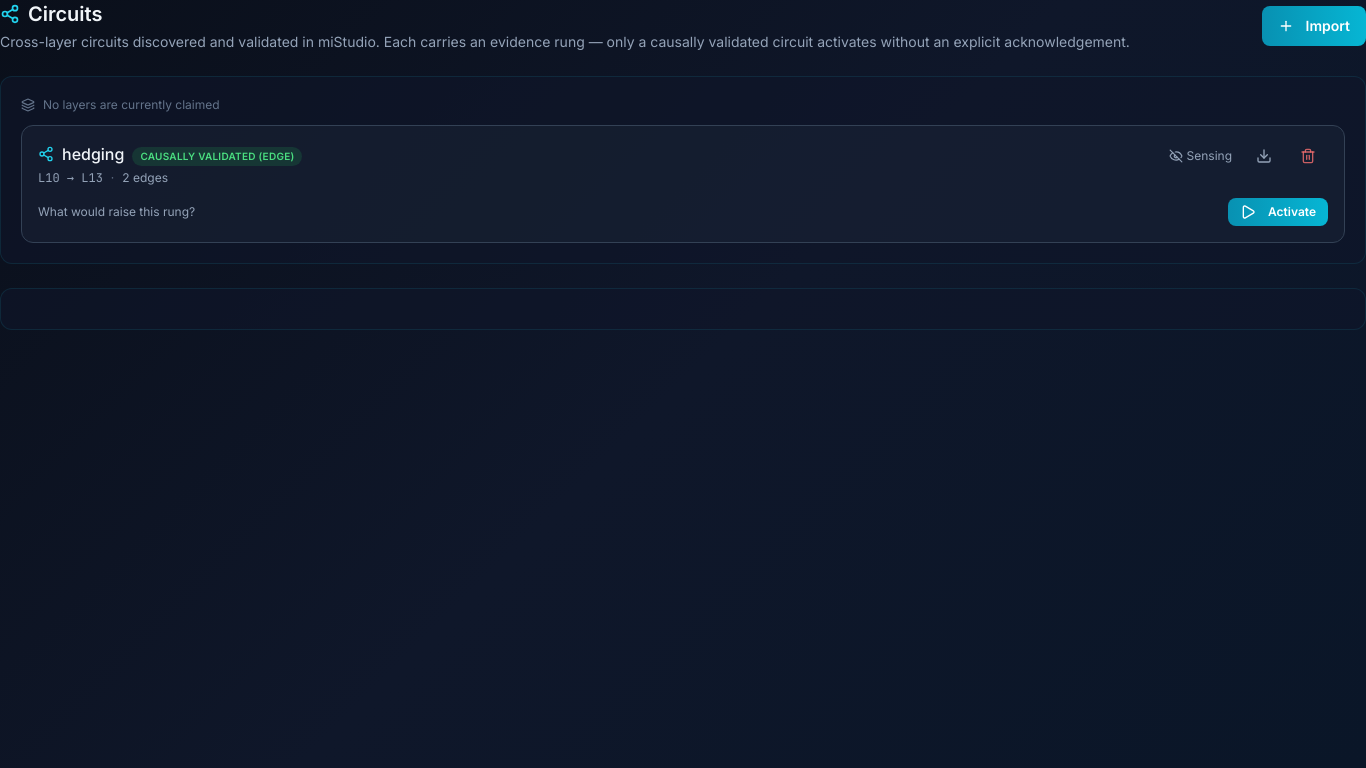
Test: CircuitsPage — layer contention › cancelling closes the dialog and activates nothing
Step 1. Click the button with test id "activate-button" → (1278, 212), box [1228,198,1328,226]
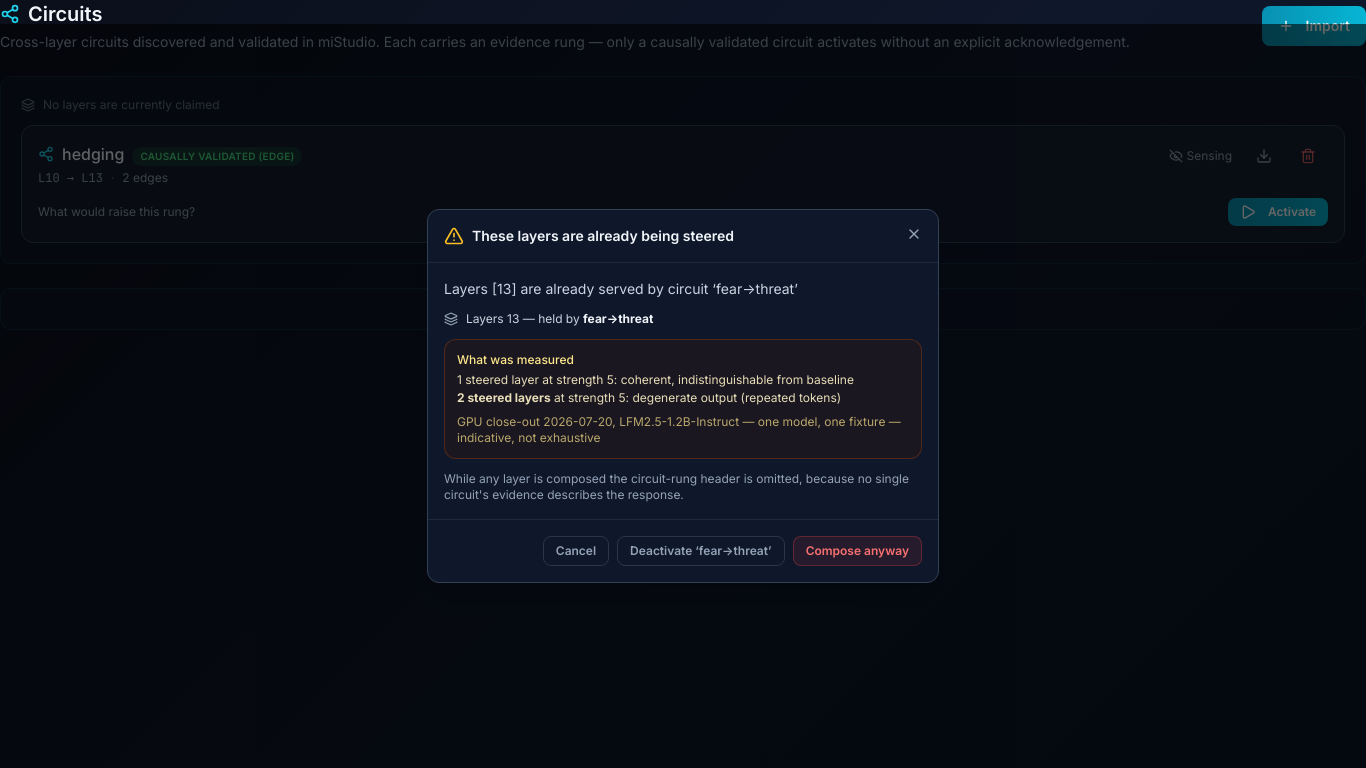
Step 2. Click the button with test id "contention-cancel-x" → (914, 234), box [906,226,922,242]
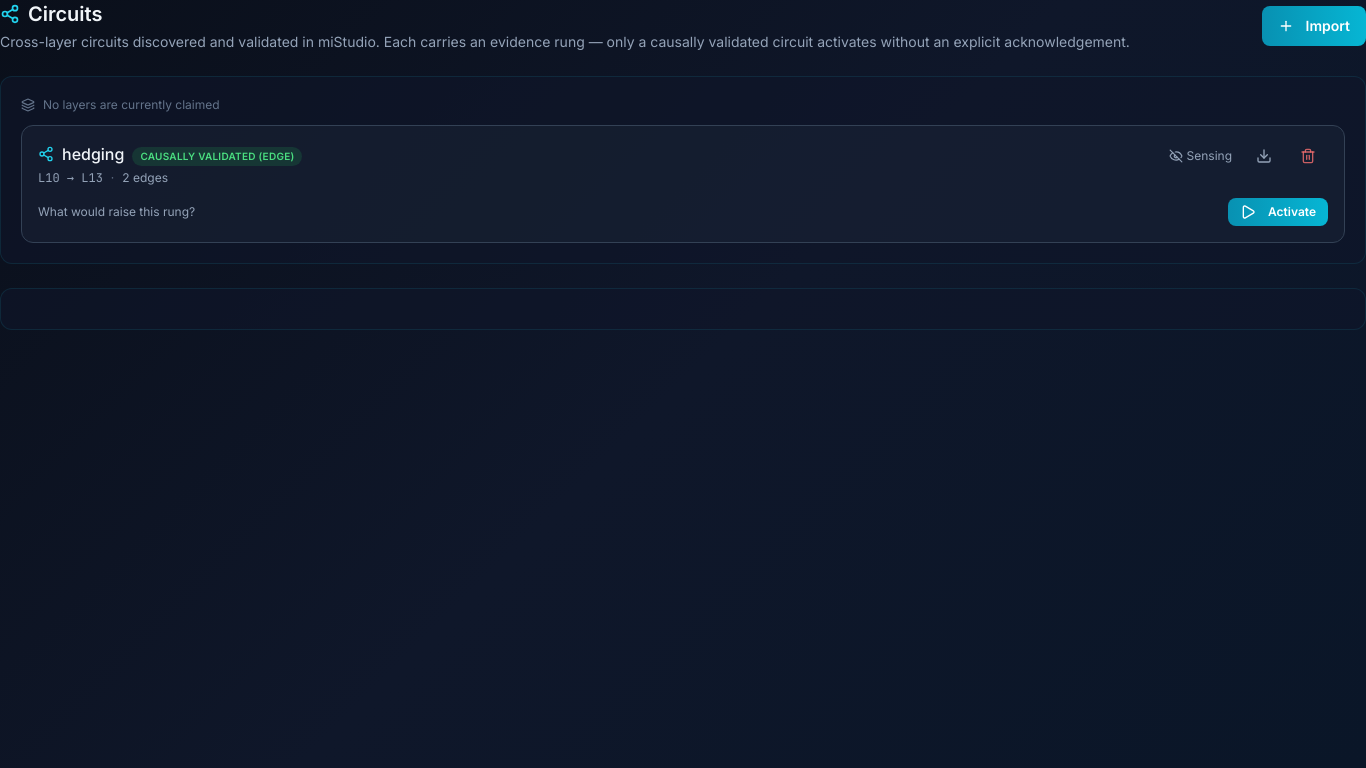
Expected: the element with test id "contention-dialog" is gone
